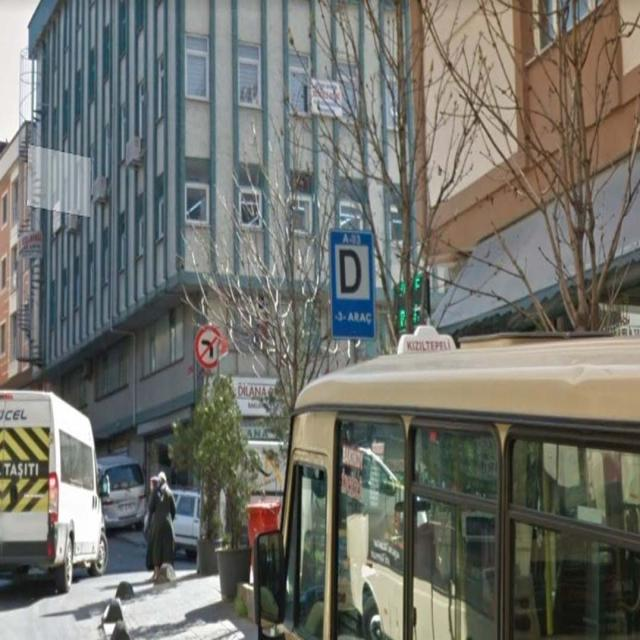durak: (328, 230, 374, 310)
soladonulmez: (195, 325, 223, 368)
